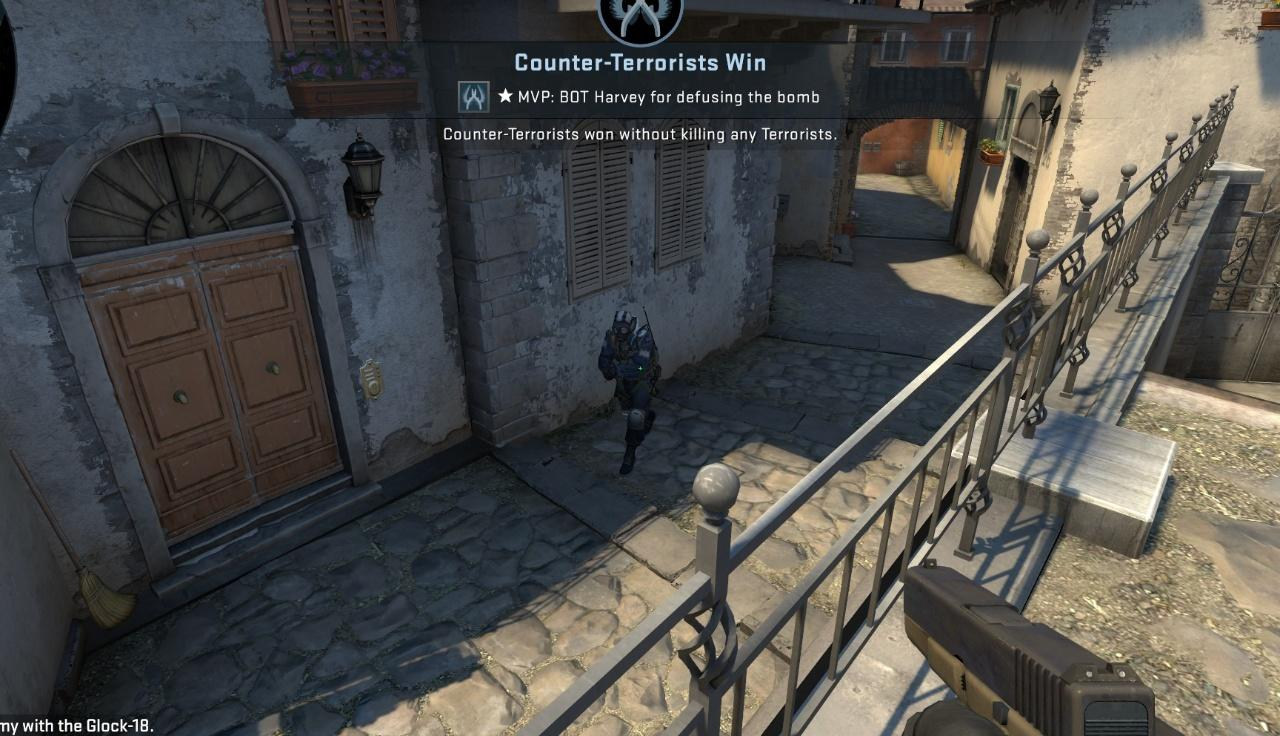ct: (602, 312, 652, 467)
cthead: (612, 312, 634, 344)
pistol: (905, 562, 1154, 731)
